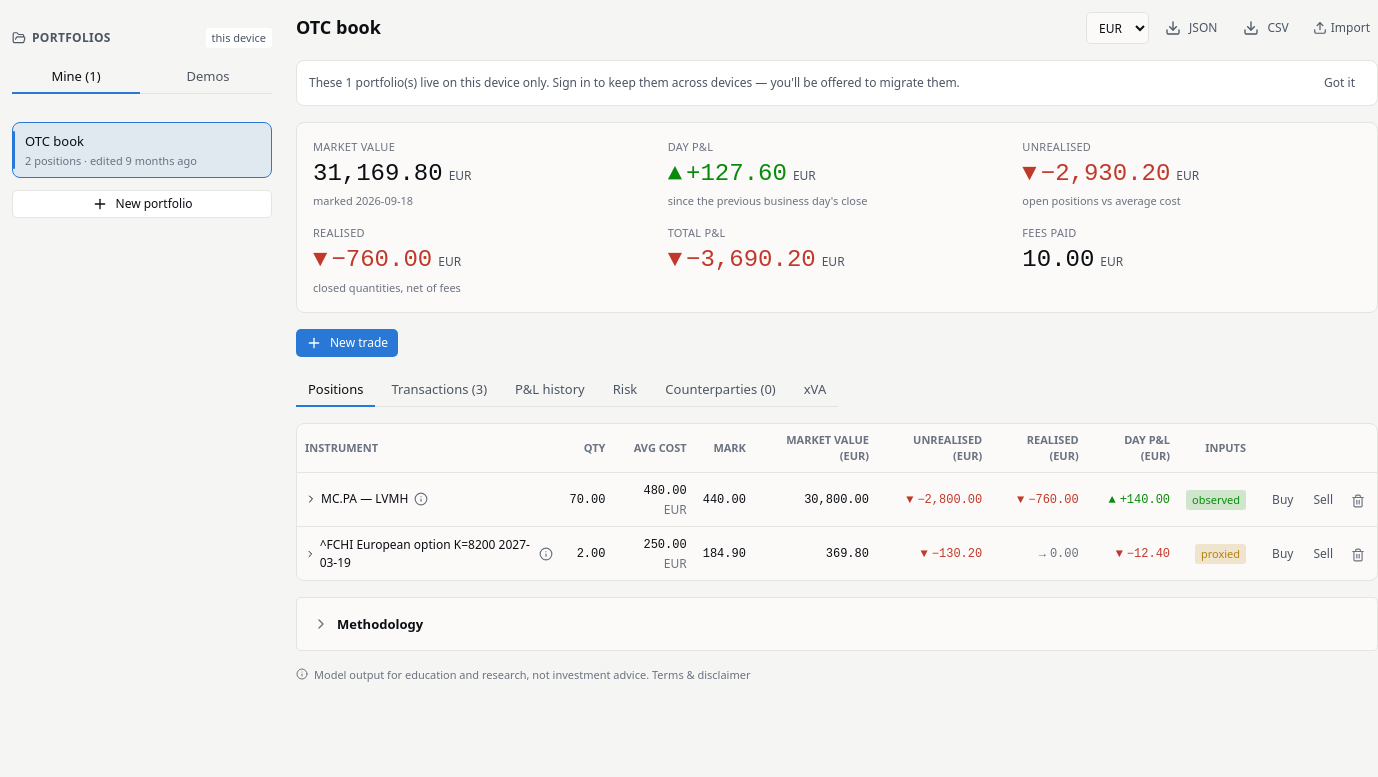
Test: counterparties of a portfolio › copies the examples in, once
Click the tab "Counterparties (0)" at (720, 390), box x1=653 y1=373 x2=788 y2=407
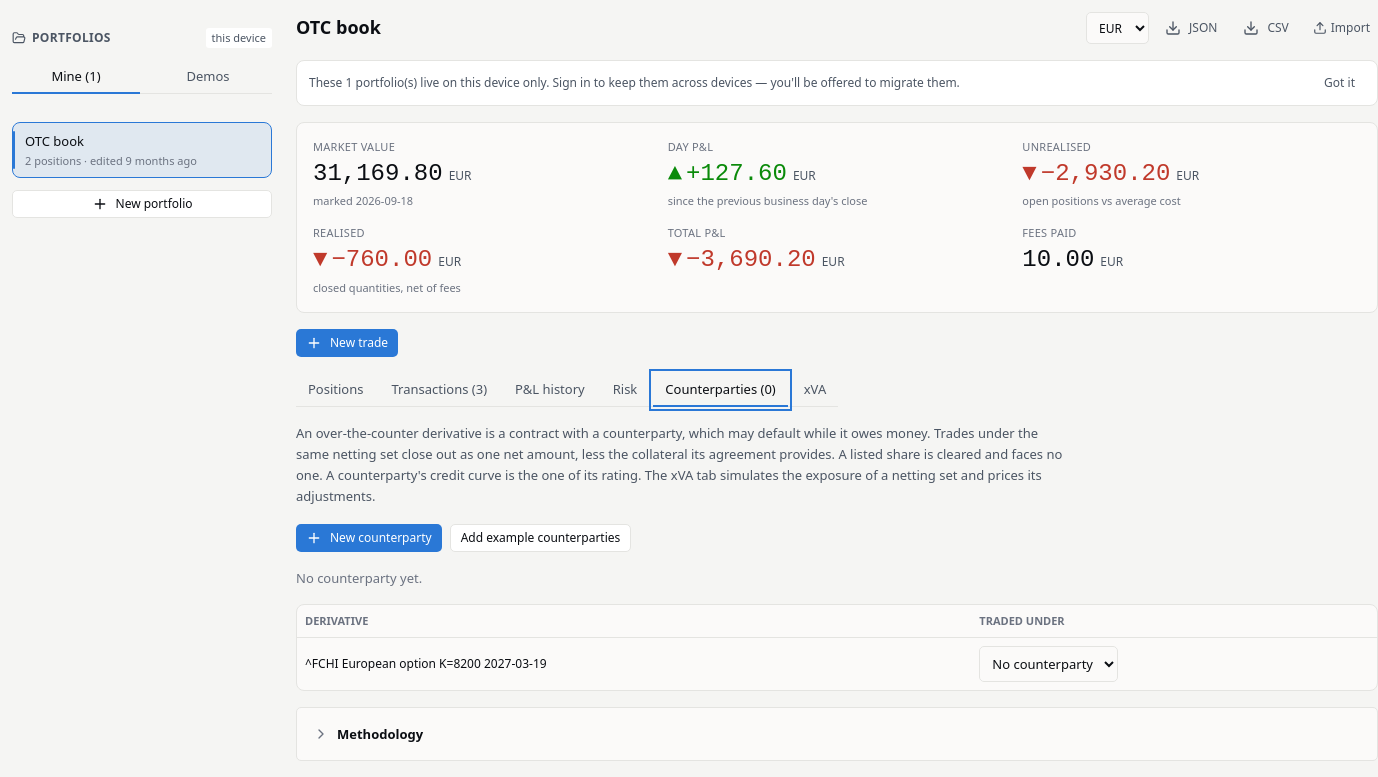
Expected: the text "No counterparty yet." is shown, x1=296 y1=568 x2=422 y2=586
Expected: the button "Add example counterparties" is enabled
Click the button "Add example counterparties" at (540, 538), box x1=450 y1=524 x2=631 y2=552
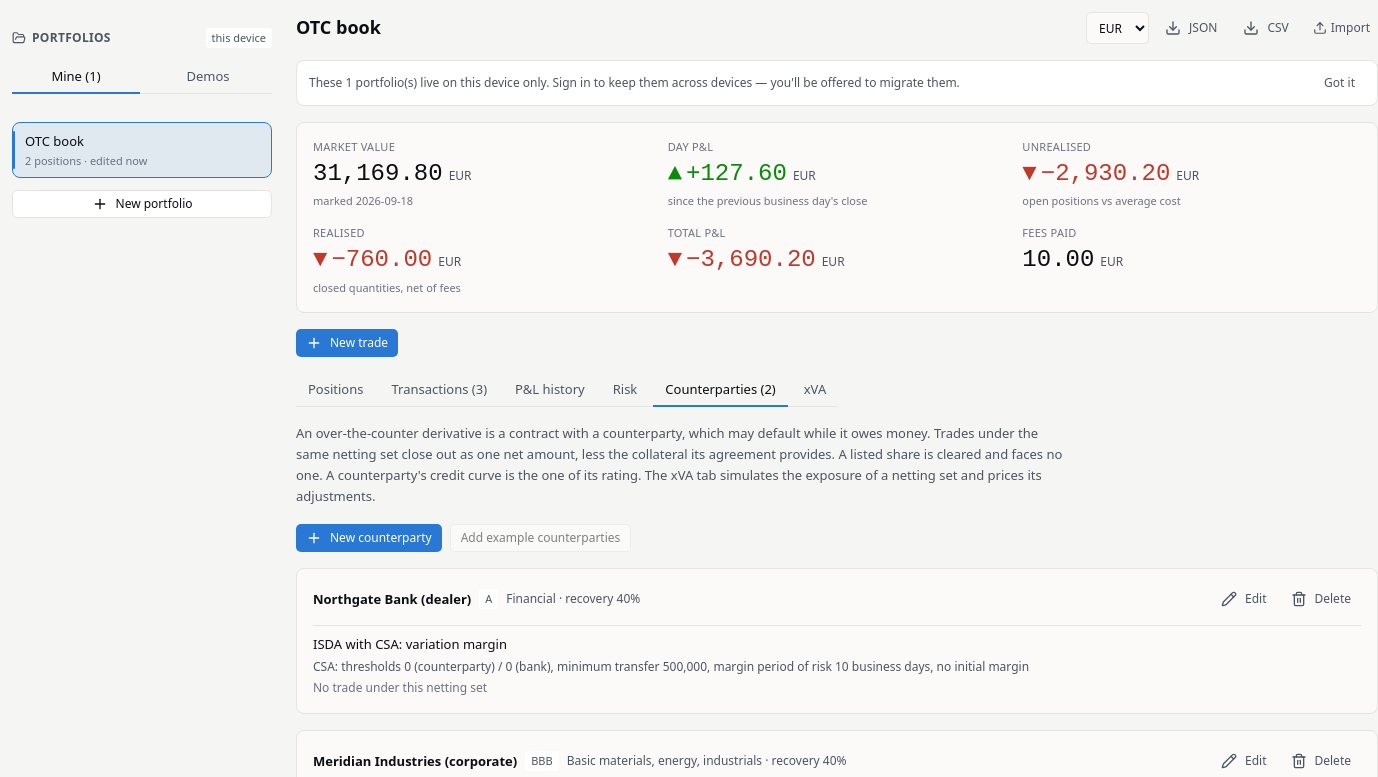
Expected: the text "minimum transfer 500,000" is shown, x1=313 y1=658 x2=1029 y2=674
Expected: the button "Add example counterparties" is disabled, x1=450 y1=524 x2=631 y2=552
